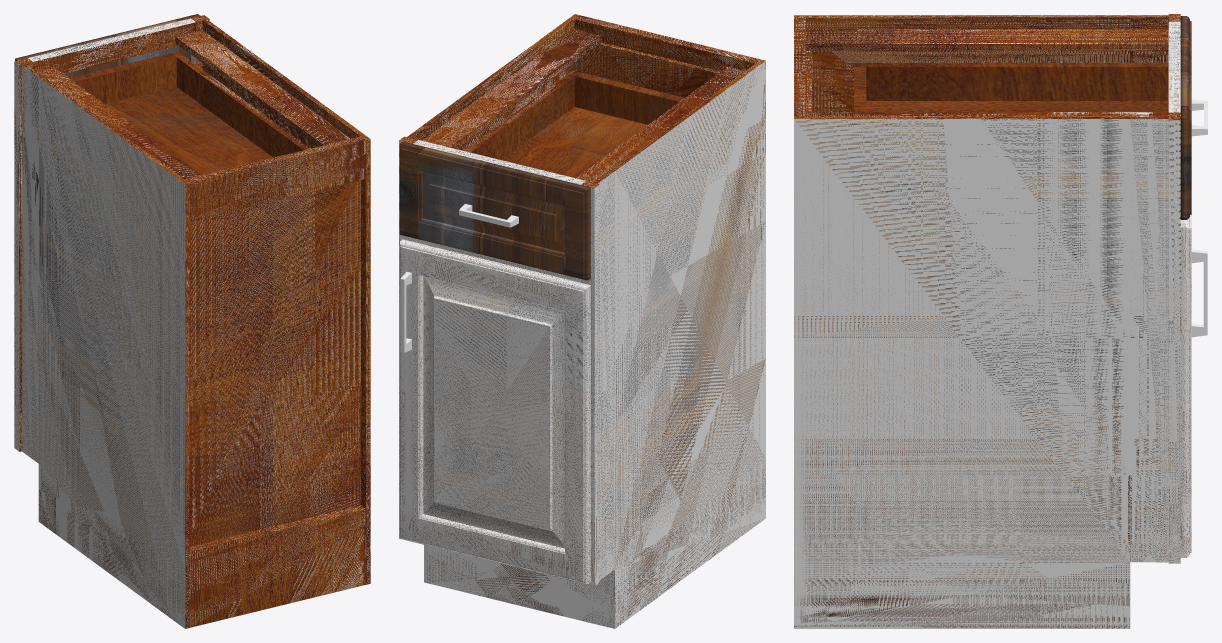
3 renders of one model, left to right at view 1: azimuth 30°, elevation 25°; view 2: azimuth 150°, elevation 25°; view 3: azimuth 270°, elevation 25°, orthographic. The views are drawn at different scales.
Visible parts, largest first — view 1: mesh1_mesh1-geometry, mesh2_mesh2-geometry, mesh3_mesh3-geometry; view 2: mesh1_mesh1-geometry, mesh7_mesh7-geometry, mesh3_mesh3-geometry, mesh2_mesh2-geometry, mesh4_mesh4-geometry; view 3: mesh1_mesh1-geometry, mesh2_mesh2-geometry, mesh7_mesh7-geometry, mesh3_mesh3-geometry, mesh4_mesh4-geometry.
Part boxes in pixels (x1=…): mesh1_mesh1-geometry: x1=14, y1=15, x2=370, y2=628; mesh2_mesh2-geometry: x1=69, y1=51, x2=309, y2=174; mesh3_mesh3-geometry: x1=15, y1=14, x2=200, y2=77; mesh1_mesh1-geometry: x1=399, y1=14, x2=765, y2=628; mesh7_mesh7-geometry: x1=399, y1=239, x2=590, y2=583; mesh3_mesh3-geometry: x1=399, y1=141, x2=590, y2=280; mesh2_mesh2-geometry: x1=463, y1=70, x2=684, y2=177; mesh4_mesh4-geometry: x1=400, y1=204, x2=518, y2=352; mesh1_mesh1-geometry: x1=794, y1=14, x2=1180, y2=628; mesh2_mesh2-geometry: x1=854, y1=63, x2=1168, y2=112; mesh7_mesh7-geometry: x1=1180, y1=215, x2=1191, y2=557; mesh3_mesh3-geometry: x1=1180, y1=16, x2=1191, y2=219; mesh4_mesh4-geometry: x1=1191, y1=99, x2=1207, y2=337.
Bounding box in the file's own units: 0.3389 × 0.7578 × 0.5576.
